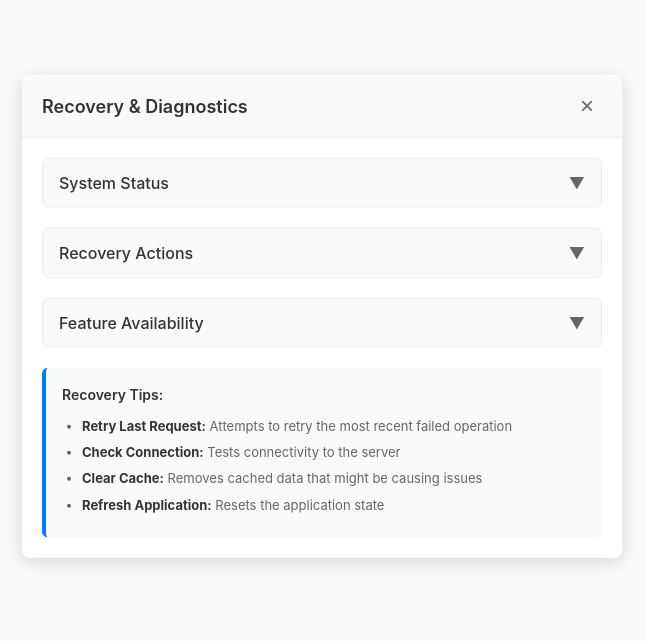
Test: RecoveryPanel › System Status Section › should show offline mode status
Click the heading "System Status": (114,183) [59,171,169,195]
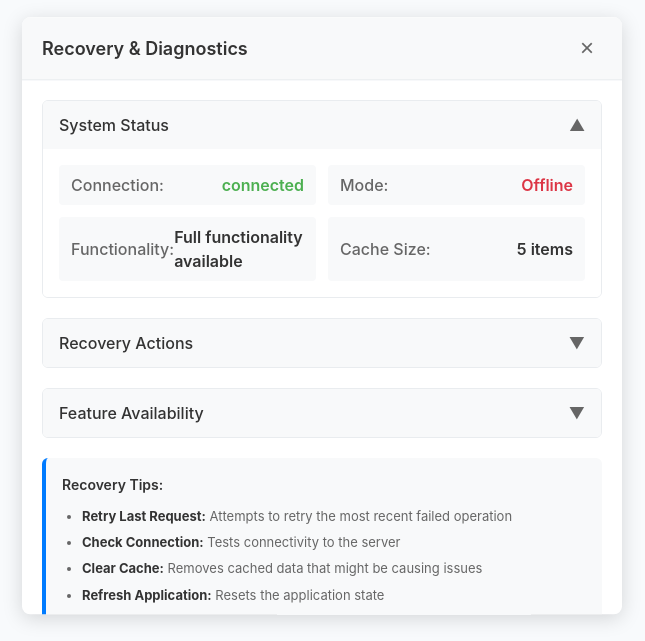
Expected: the text "Offline" is shown, [521,173,573,197]
